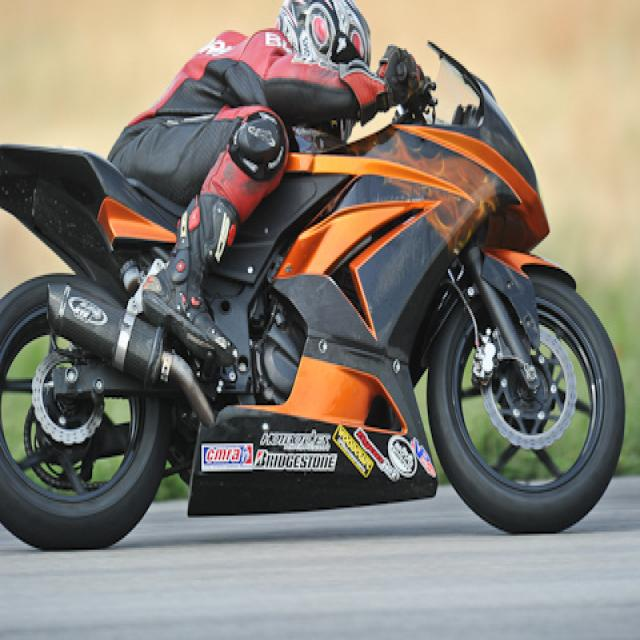motor: (0, 46, 617, 535)
